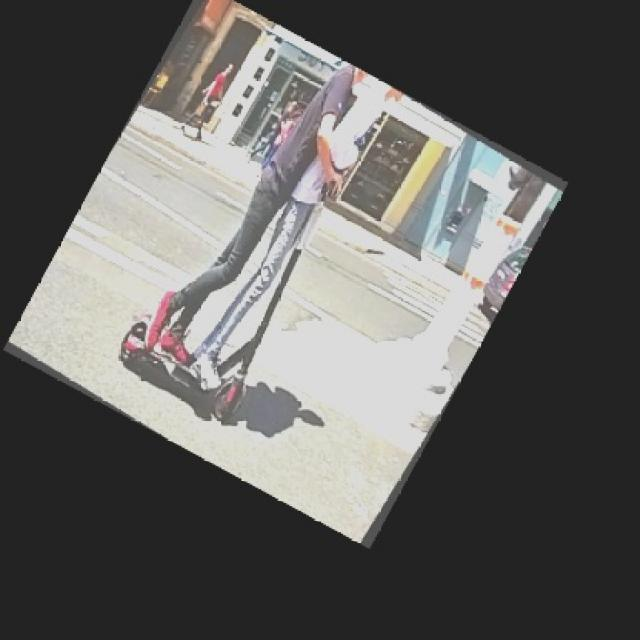human: (187, 72, 387, 381), (141, 67, 357, 349)
kickboard: (118, 313, 254, 423)
